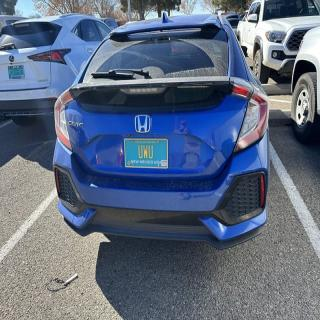license: (125, 139, 169, 170)
